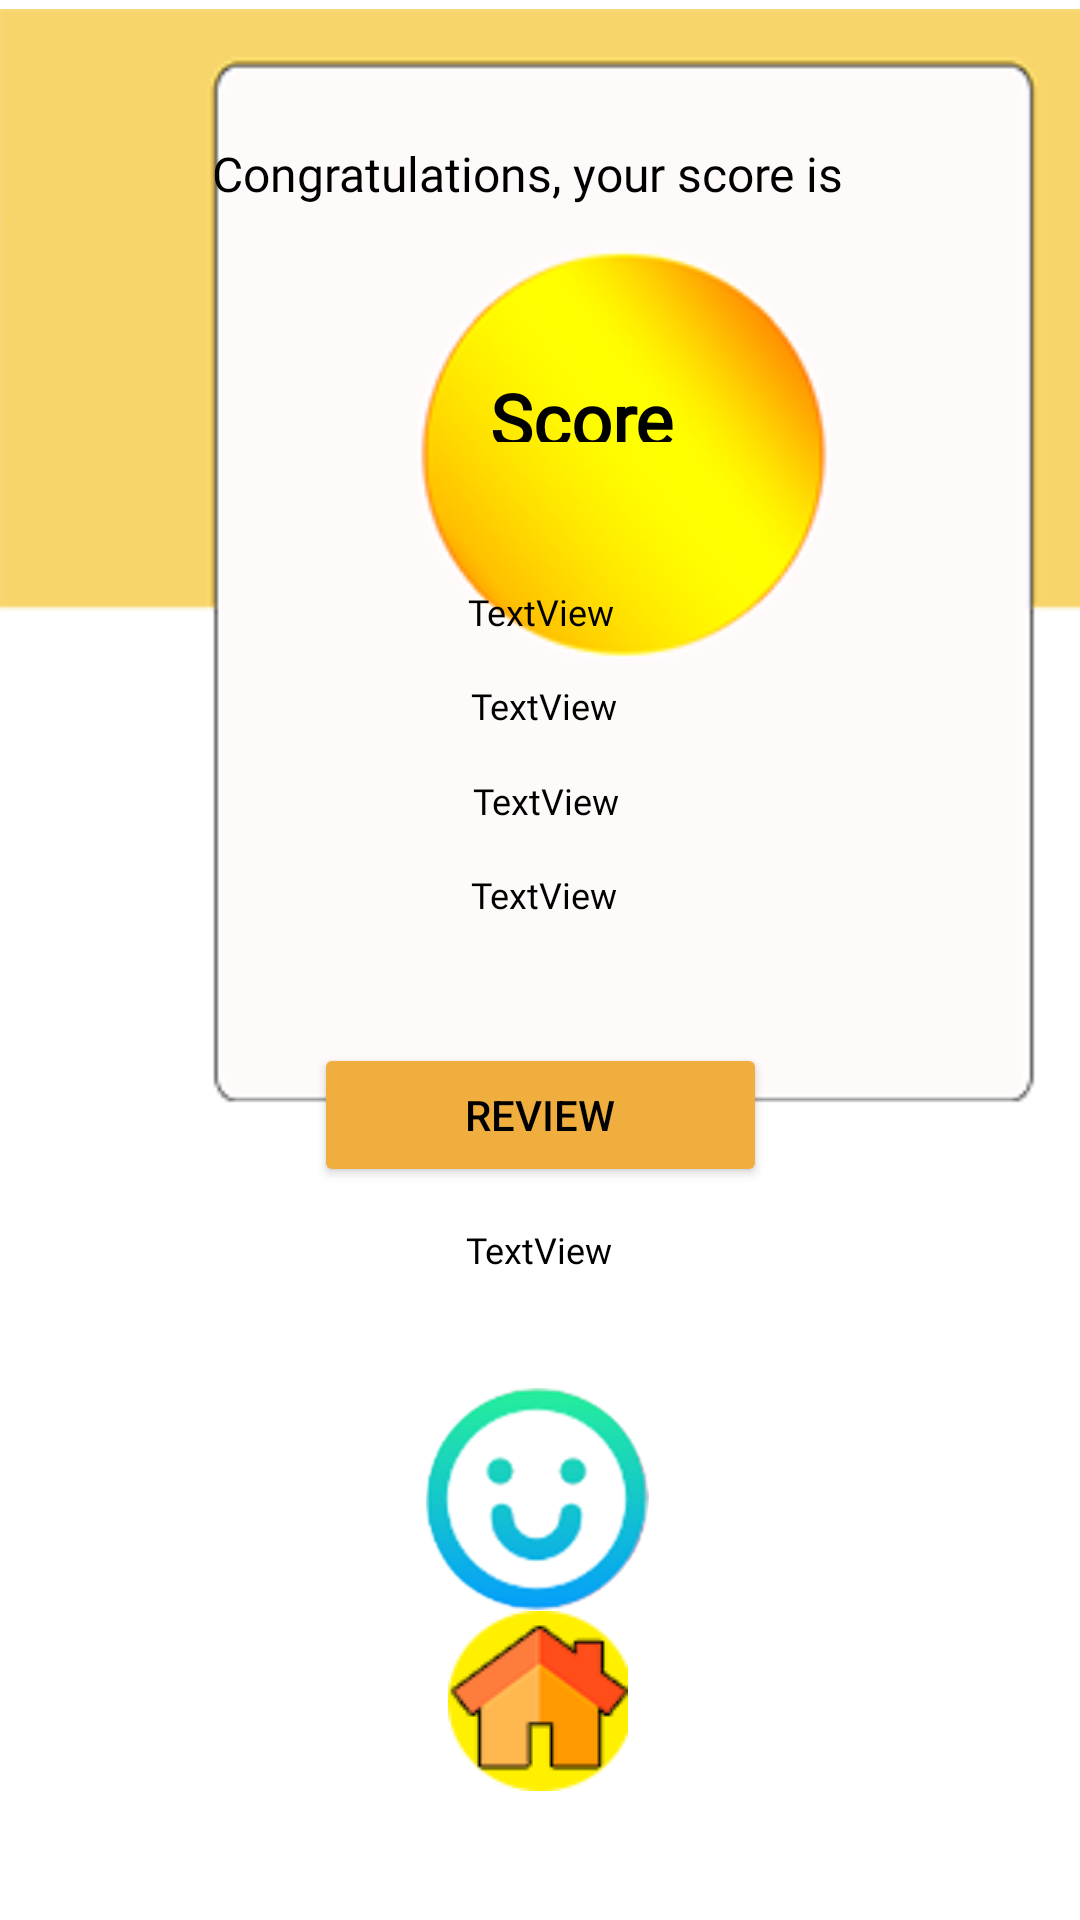

Where to tap for icons on this 1080w x 1920h app screen, as (x=x, y=y):
homeupdate: (x=538, y=1701)
